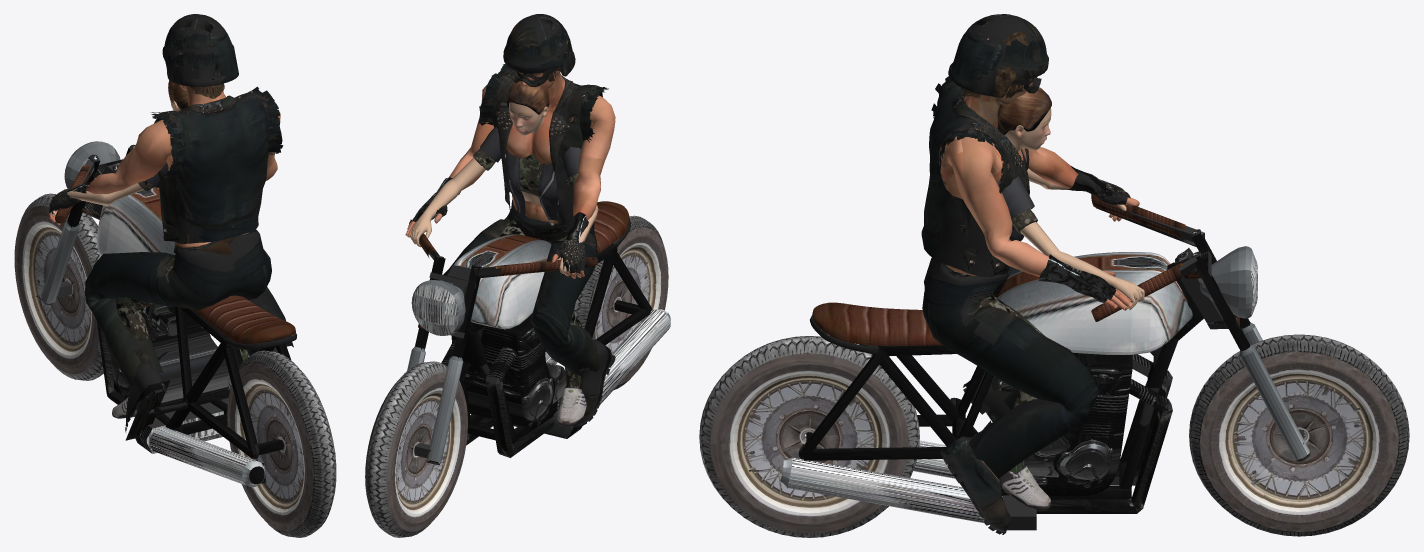
Rendered from bikers.glb.
3 views of the same model, side by side, from view 1: azimuth 30°, elevation 25°; view 2: azimuth 150°, elevation 25°; view 3: azimuth 270°, elevation 25° (orthographic). The views are drawn at different scales.
Visible parts, largest first — view 1: body (×2), wheelRear, wheelFront; view 2: body (×2), wheelFront, wheelRear; view 3: body (×2), wheelFront, wheelRear.
Part boxes in pixels (x1,y1,x2,y2): body (×2): [41, 14, 335, 487]; wheelRear: [227, 350, 336, 537]; wheelFront: [14, 193, 103, 380]; body (×2): [405, 14, 670, 465]; wheelFront: [365, 361, 467, 537]; wheelRear: [574, 215, 668, 389]; body (×2): [780, 14, 1310, 534]; wheelFront: [1189, 334, 1409, 536]; wheelRear: [699, 336, 919, 537].
Size of the model in its own units: 0.8561 by 1.85 by 2.29.
Materials: 7 (7 with a texture image).
